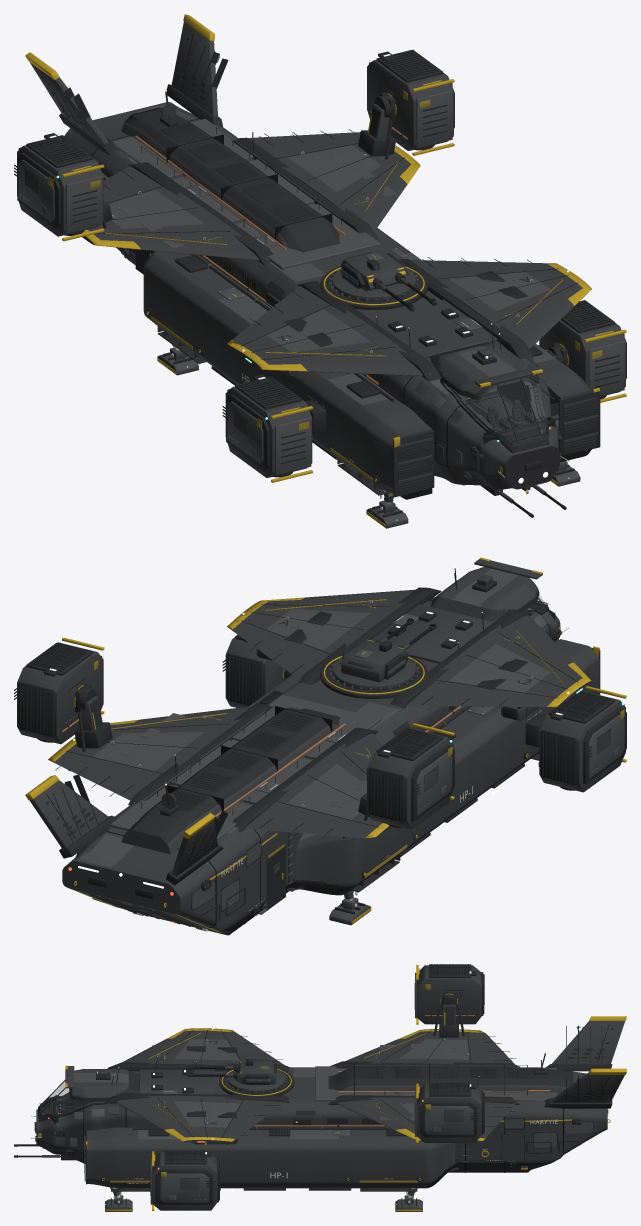
Rendered from Harpyie.0b56880ecb.glb.
3 views of the same model, one above another, from view 1: azimuth 30°, elevation 25°; view 2: azimuth 150°, elevation 25°; view 3: azimuth 270°, elevation 25° (orthographic). The views are drawn at different scales.
Parts seen in each view (by area): view 1: Dachpanzer.004, Andockring.006, Dachpanzer.005, Bugstirn.001, Auslegerholm.004, Behaeltergitter.002, Kanzelglas.001, Gondelklappe.010, Duesenschaufel.112, Duesenschaufel.096, Andockkern.006, Fluegelfuge.240 (+19 smaller); view 2: Dachpanzer.004, Andockring.006, Dachpanzer.005, Bugstirn.001, Auslegerholm.004, Behaeltergitter.002, Gondelklappe.010, Andockkern.006, Auslassrahmen.006, Auslassrahmen.007, Fluegelfuge.240, Auslassrahmen.005 (+14 smaller); view 3: Dachpanzer.004, Andockring.006, Dachpanzer.005, Bugstirn.001, Auslegerholm.004, Gondelklappe.014, Behaeltergitter.002, Andockkern.006, Gondelklappe.008, Gondelklappe.010, Auslassrahmen.004, Auslassrahmen.005 (+11 smaller).
Boxes of the visible parts, x1,y1,x2,y2 form: Dachpanzer.004: (64,102,591,489); Andockring.006: (40,37,600,517); Dachpanzer.005: (108,102,555,405); Bugstirn.001: (97,107,591,499); Auslegerholm.004: (29,22,598,503); Behaeltergitter.002: (58,68,596,494); Kanzelglas.001: (374,265,562,458); Gondelklappe.010: (367,59,453,150); Duesenschaufel.112: (18,159,102,233); Duesenschaufel.096: (227,401,311,474); Andockkern.006: (60,51,576,465); Fluegelfuge.240: (41,33,578,485); Dachpanzer.004: (54,567,599,931); Andockring.006: (46,568,600,921); Dachpanzer.005: (72,568,550,867); Bugstirn.001: (102,594,573,935); Auslegerholm.004: (29,559,558,876); Behaeltergitter.002: (63,611,527,922); Gondelklappe.010: (17,642,103,744); Andockkern.006: (64,602,547,914); Auslassrahmen.006: (541,692,626,790); Auslassrahmen.007: (369,728,454,827); Fluegelfuge.240: (46,600,578,927); Auslassrahmen.005: (18,642,92,742); Dachpanzer.004: (36,1028,607,1183); Andockring.006: (14,994,613,1190); Dachpanzer.005: (74,1039,556,1138); Bugstirn.001: (36,1039,573,1188); Auslegerholm.004: (42,1004,624,1172); Gondelklappe.014: (416,965,481,1024); Behaeltergitter.002: (34,1046,608,1180); Andockkern.006: (70,1026,592,1162); Gondelklappe.008: (152,1151,217,1210); Gondelklappe.010: (416,1084,481,1142); Auslassrahmen.004: (155,1150,218,1204); Auslassrahmen.005: (419,1083,483,1137).
Bounding box in the file's own units: 19.69 × 10.18 × 37.57.
